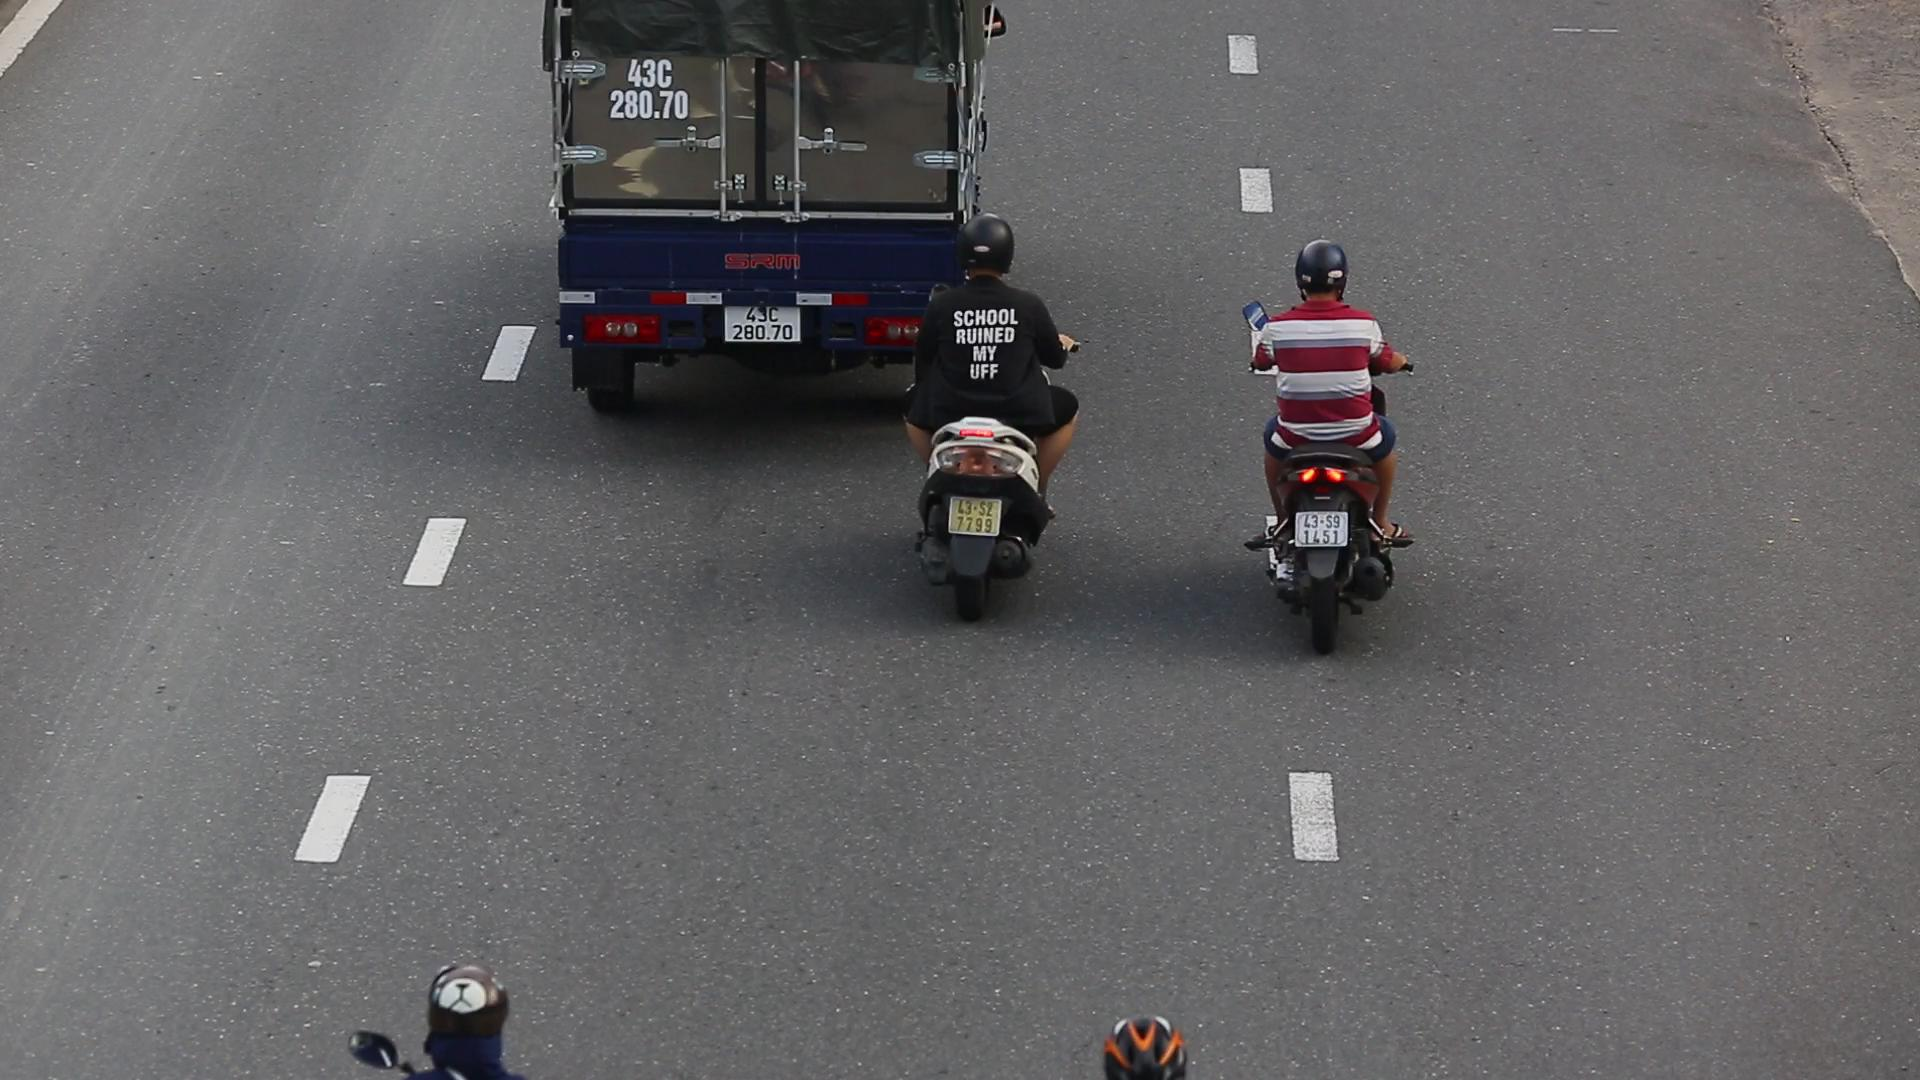motobike: (1237, 241, 1416, 654), (903, 211, 1081, 615)
